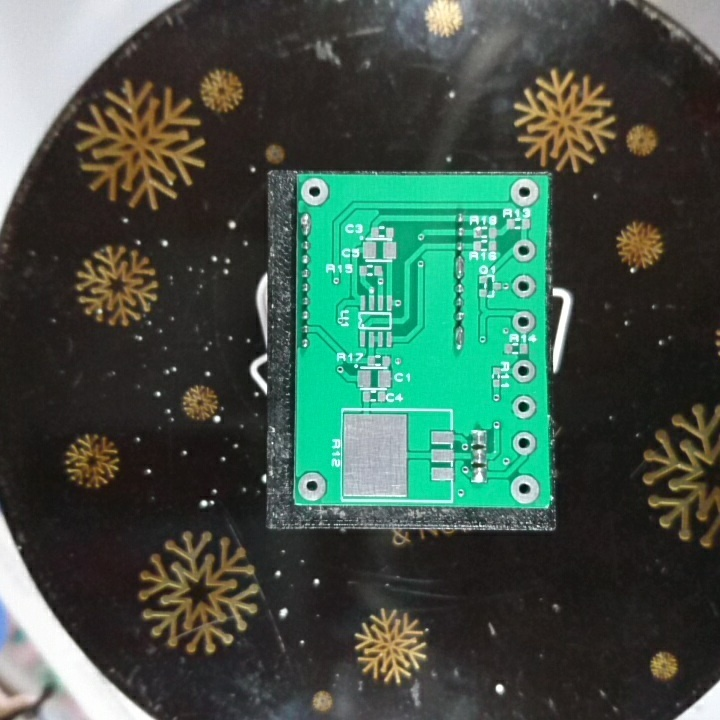F: (508, 472, 542, 505), (508, 177, 539, 209), (296, 471, 328, 502), (299, 176, 330, 207), (508, 393, 539, 423), (510, 357, 538, 387), (511, 272, 539, 300), (510, 429, 539, 456), (512, 238, 539, 263), (511, 308, 535, 334)
P: (450, 323, 466, 357), (452, 250, 468, 283), (299, 209, 311, 238)
